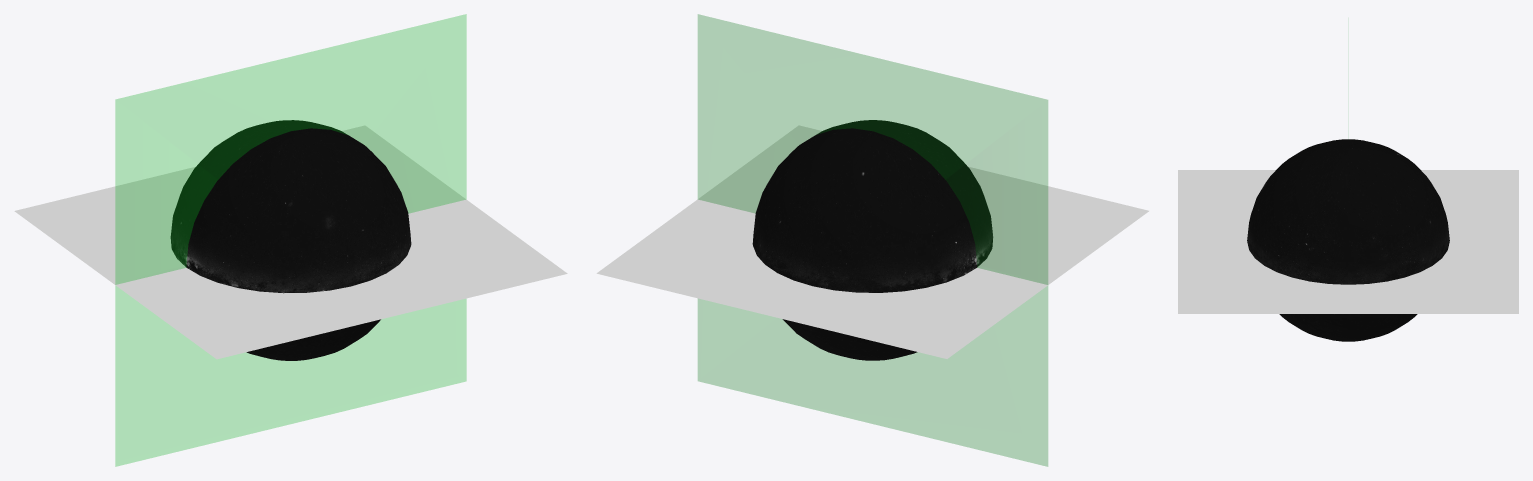
The model's file is portal-3.glb.
The picture shows the model from 3 angles, left to right: view 1: azimuth 30°, elevation 25°; view 2: azimuth 150°, elevation 25°; view 3: azimuth 270°, elevation 25°; orthographic projection. The views are drawn at different scales.
Parts seen in each view (by area): view 1: clip, skyOut, showIn, hideIn, skyIn; view 2: clip, skyIn, hideIn, showIn, skyOut; view 3: hideIn, showIn, skyIn, skyOut.
Part boxes in pixels (x1,y1,x2,y2): clip: (115,14,466,466); skyOut: (186,128,411,360); showIn: (116,199,567,359); hideIn: (14,125,465,285); skyIn: (170,120,347,267); clip: (698,14,1047,466); skyIn: (752,128,977,360); hideIn: (596,199,1047,358); showIn: (698,125,1148,284); skyOut: (816,120,993,266); hideIn: (1348,170,1518,313); showIn: (1178,170,1348,313); skyIn: (1348,139,1449,341); skyOut: (1247,139,1348,341).
Size of the model in its own units: 200 by 200 by 200.
Materials: 11 (4 with a texture image).
